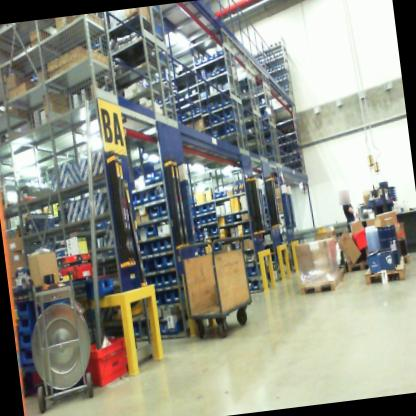pallet: (296, 267, 348, 296), (362, 256, 409, 287), (347, 257, 372, 274), (335, 261, 348, 279), (403, 251, 413, 263)
small_load_carrier: (74, 326, 136, 390), (350, 227, 372, 253)
